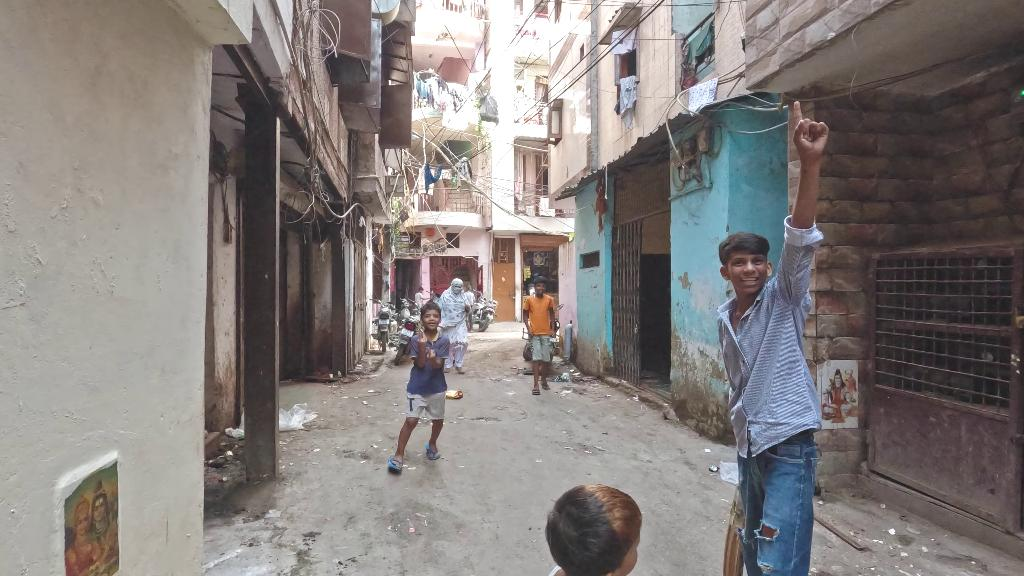garbage: (277, 400, 313, 437), (707, 459, 739, 485), (445, 383, 464, 401), (551, 371, 581, 382)
